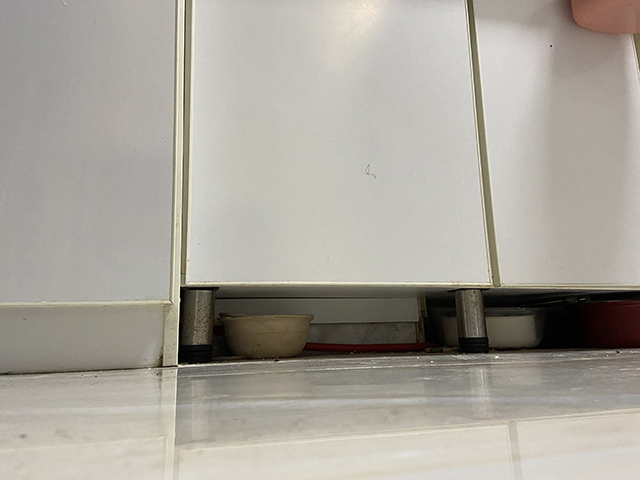cabinet: (179, 1, 640, 365)
